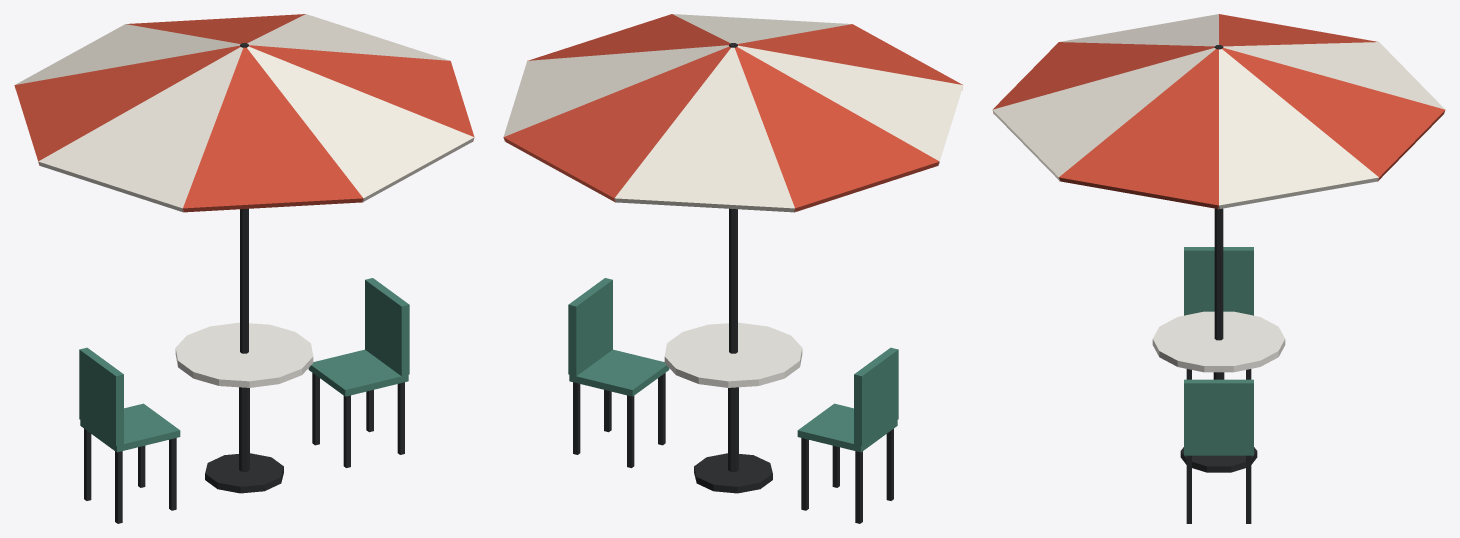
File: getkong-hhschirm.glb
3 views of the same model, side by side, from view 1: azimuth 30°, elevation 25°; view 2: azimuth 150°, elevation 25°; view 3: azimuth 270°, elevation 25° (orthographic). The views are drawn at different scales.
Parts seen in each view (by area): view 1: schirm; view 2: schirm; view 3: schirm.
Boxes of the visible parts, x1=… form: schirm: x1=14, y1=14, x2=474, y2=523; schirm: x1=503, y1=14, x2=963, y2=523; schirm: x1=992, y1=14, x2=1445, y2=523.
Bounding box in the file's own units: 2.6 × 2.6 × 2.6.
